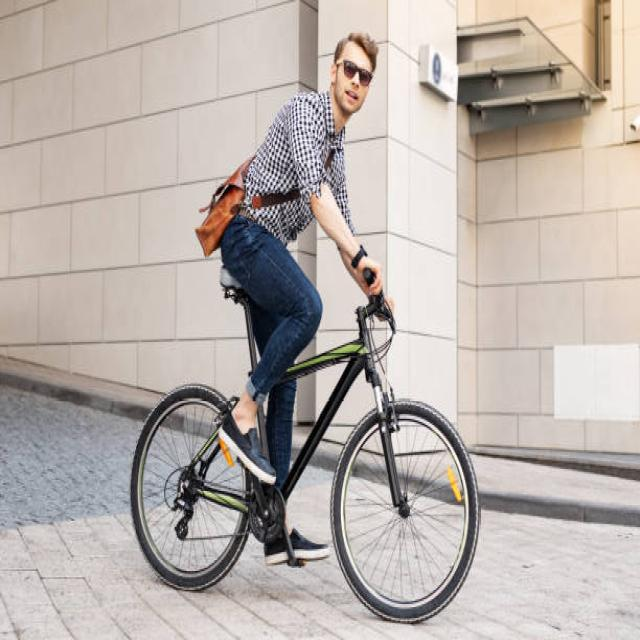bicycle: (131, 32, 479, 622)
